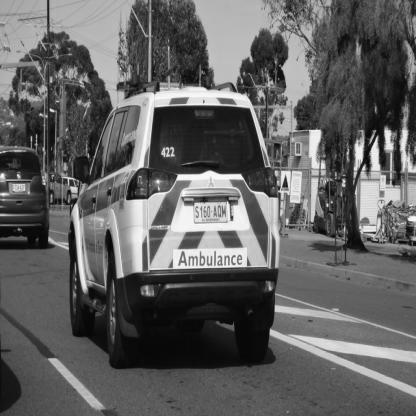ambulance: (73, 80, 276, 377)
